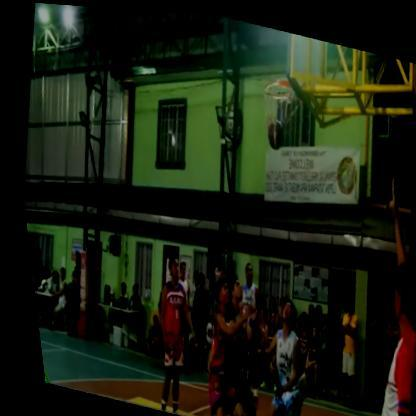basketball: (258, 108, 287, 152)
rim: (249, 61, 307, 144)
